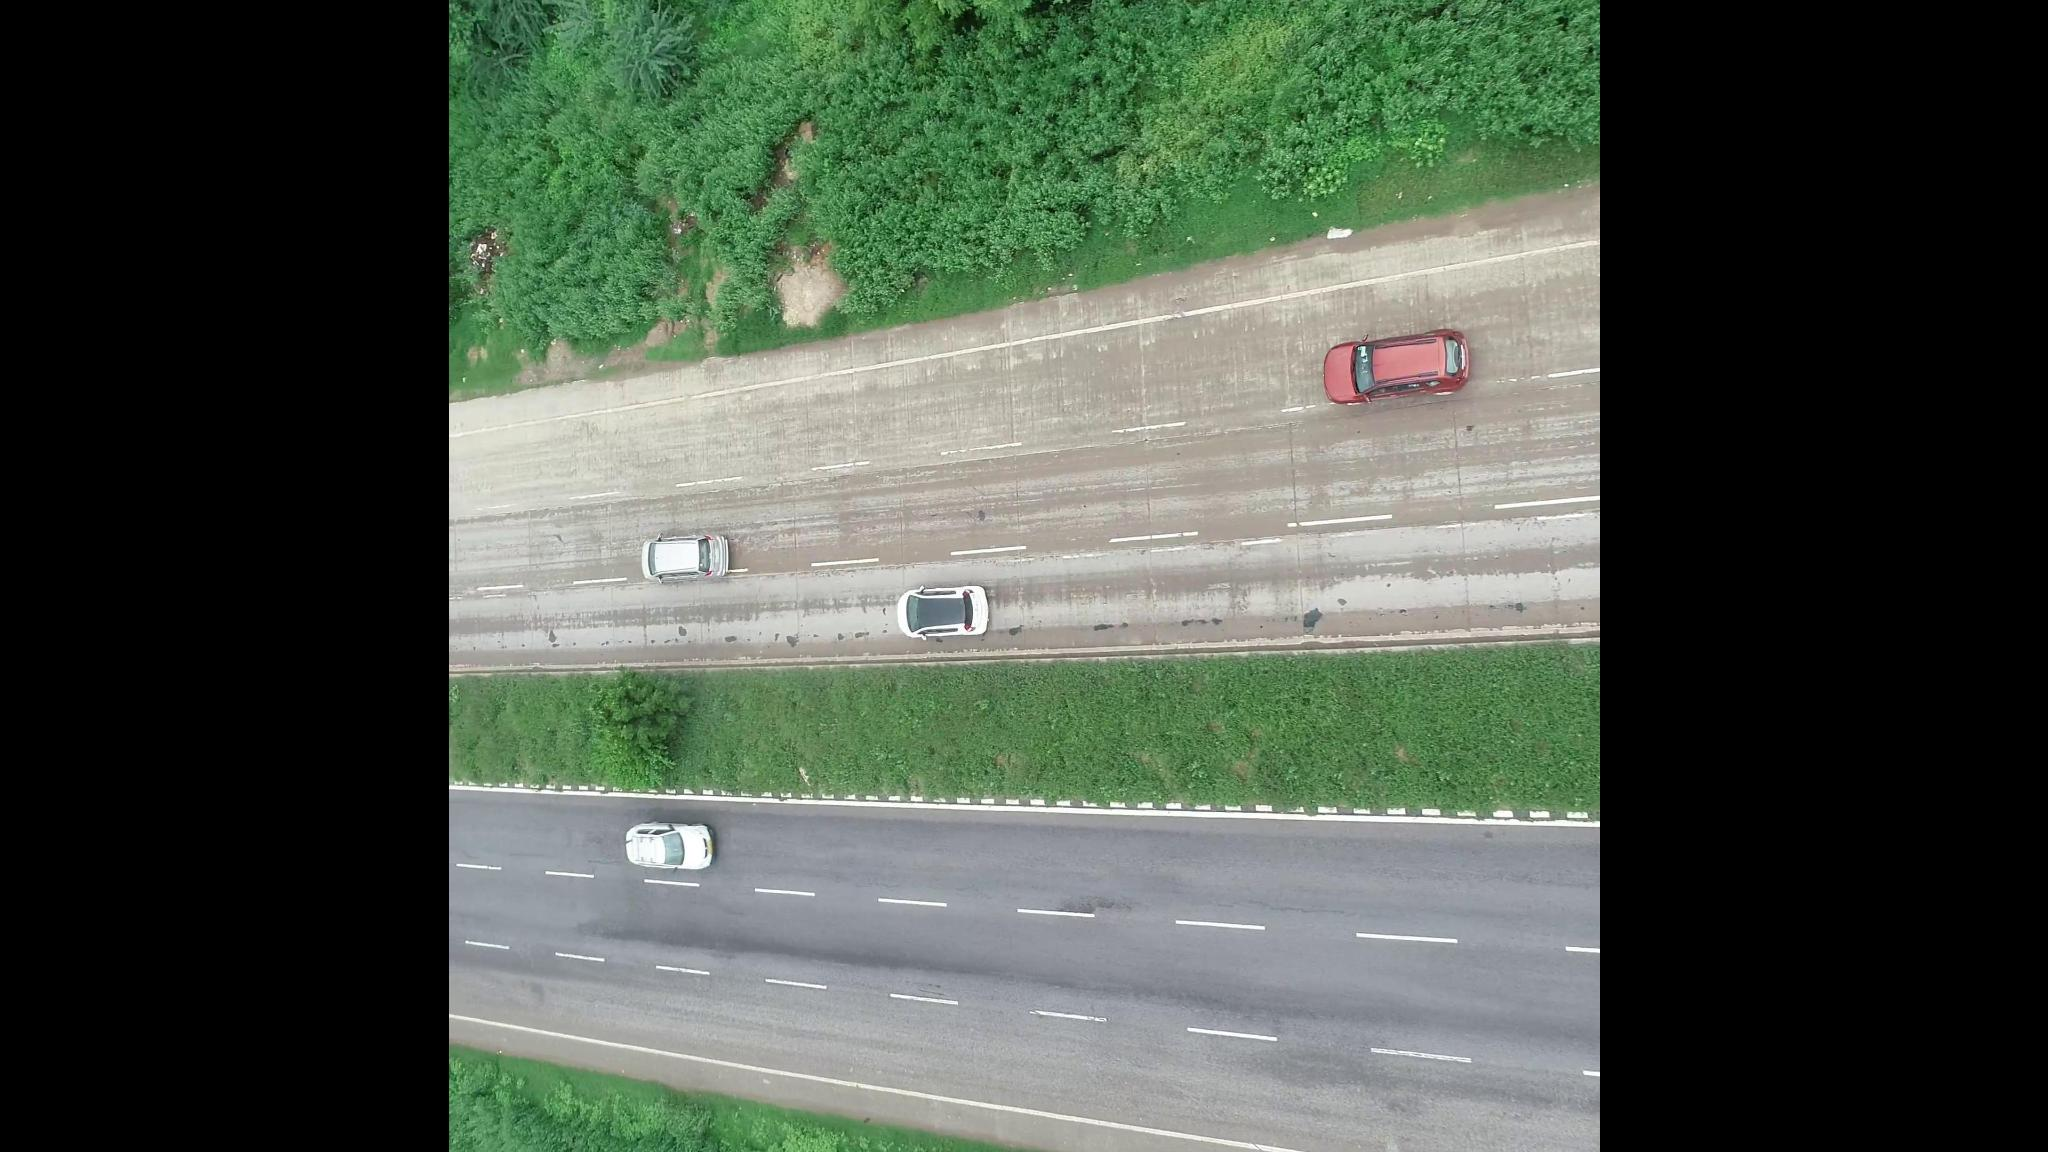Cracks: (1215, 888, 1378, 923)
